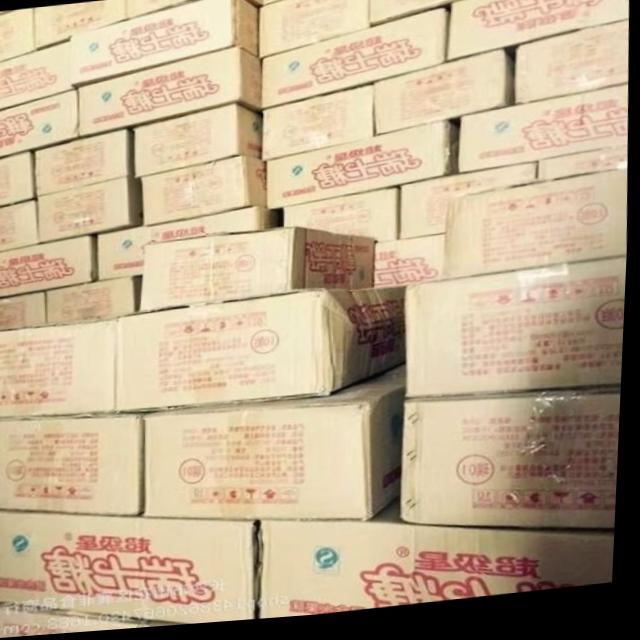box: (147, 370, 407, 527), (261, 525, 620, 623), (119, 292, 407, 413), (402, 397, 625, 539), (0, 512, 263, 627), (406, 268, 626, 403), (443, 176, 626, 287), (141, 232, 381, 313), (263, 15, 447, 113), (267, 127, 457, 212), (72, 0, 261, 85), (77, 51, 260, 136), (0, 415, 145, 517), (457, 93, 628, 179), (99, 211, 279, 281), (446, 0, 628, 67), (0, 320, 119, 419), (375, 58, 506, 139), (396, 170, 536, 245), (516, 29, 626, 111), (141, 159, 272, 227), (136, 109, 263, 178), (261, 91, 374, 165), (283, 191, 404, 247), (259, 0, 369, 60), (0, 605, 188, 639), (36, 131, 128, 197), (39, 177, 132, 242), (0, 236, 94, 297), (0, 89, 80, 157), (0, 41, 74, 109), (33, 1, 126, 50), (48, 278, 138, 326), (372, 239, 448, 292), (370, 0, 472, 30), (538, 156, 628, 190), (0, 200, 40, 252), (0, 8, 37, 62), (0, 151, 35, 206), (0, 292, 46, 330), (124, 0, 198, 21)
